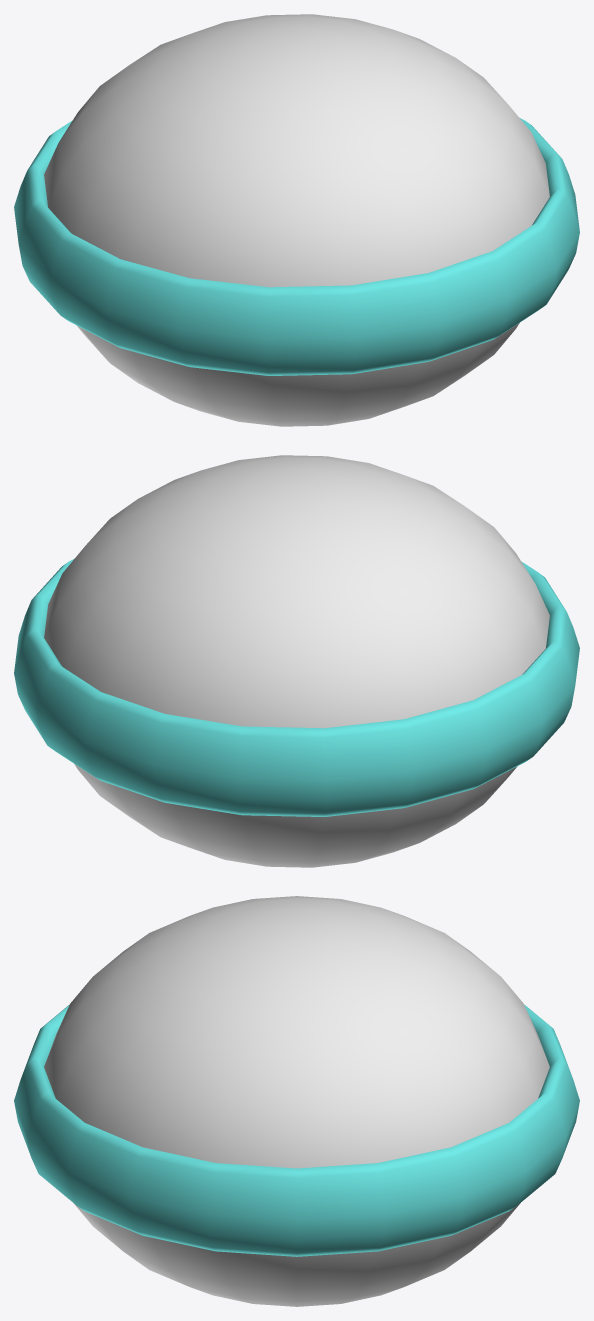
The model's file is pickups_ice 1.fbx.
3 renders of one model, top to bottom at view 1: azimuth 30°, elevation 25°; view 2: azimuth 150°, elevation 25°; view 3: azimuth 270°, elevation 25°, orthographic.
Parts seen in each view (by area): view 1: GlassSpeere.001, Outertorus.003; view 2: GlassSpeere.001, Outertorus.003; view 3: GlassSpeere.001, Outertorus.003.
Boxes of the visible parts, bbox=[...] form: GlassSpeere.001: bbox=[44, 14, 549, 426]; Outertorus.003: bbox=[14, 117, 579, 375]; GlassSpeere.001: bbox=[44, 455, 549, 867]; Outertorus.003: bbox=[14, 558, 579, 816]; GlassSpeere.001: bbox=[44, 896, 549, 1306]; Outertorus.003: bbox=[14, 1005, 579, 1256].
Size of the model in its own units: 260 by 176 by 260.
